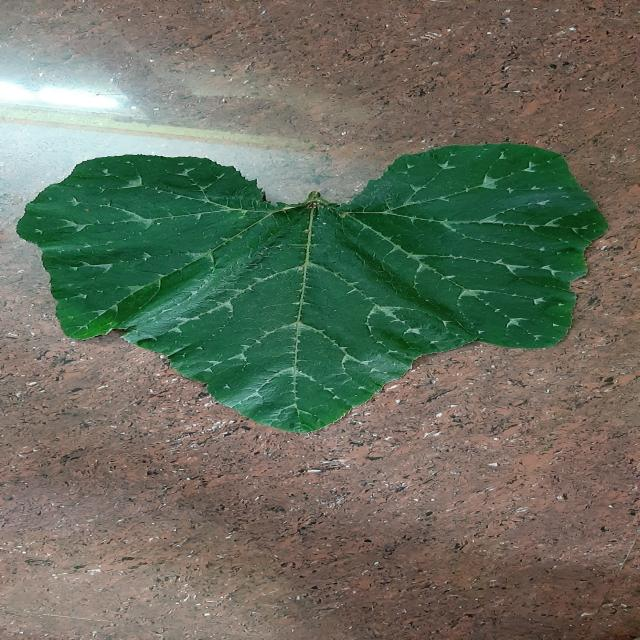pumpkin: (16, 144, 607, 432)
